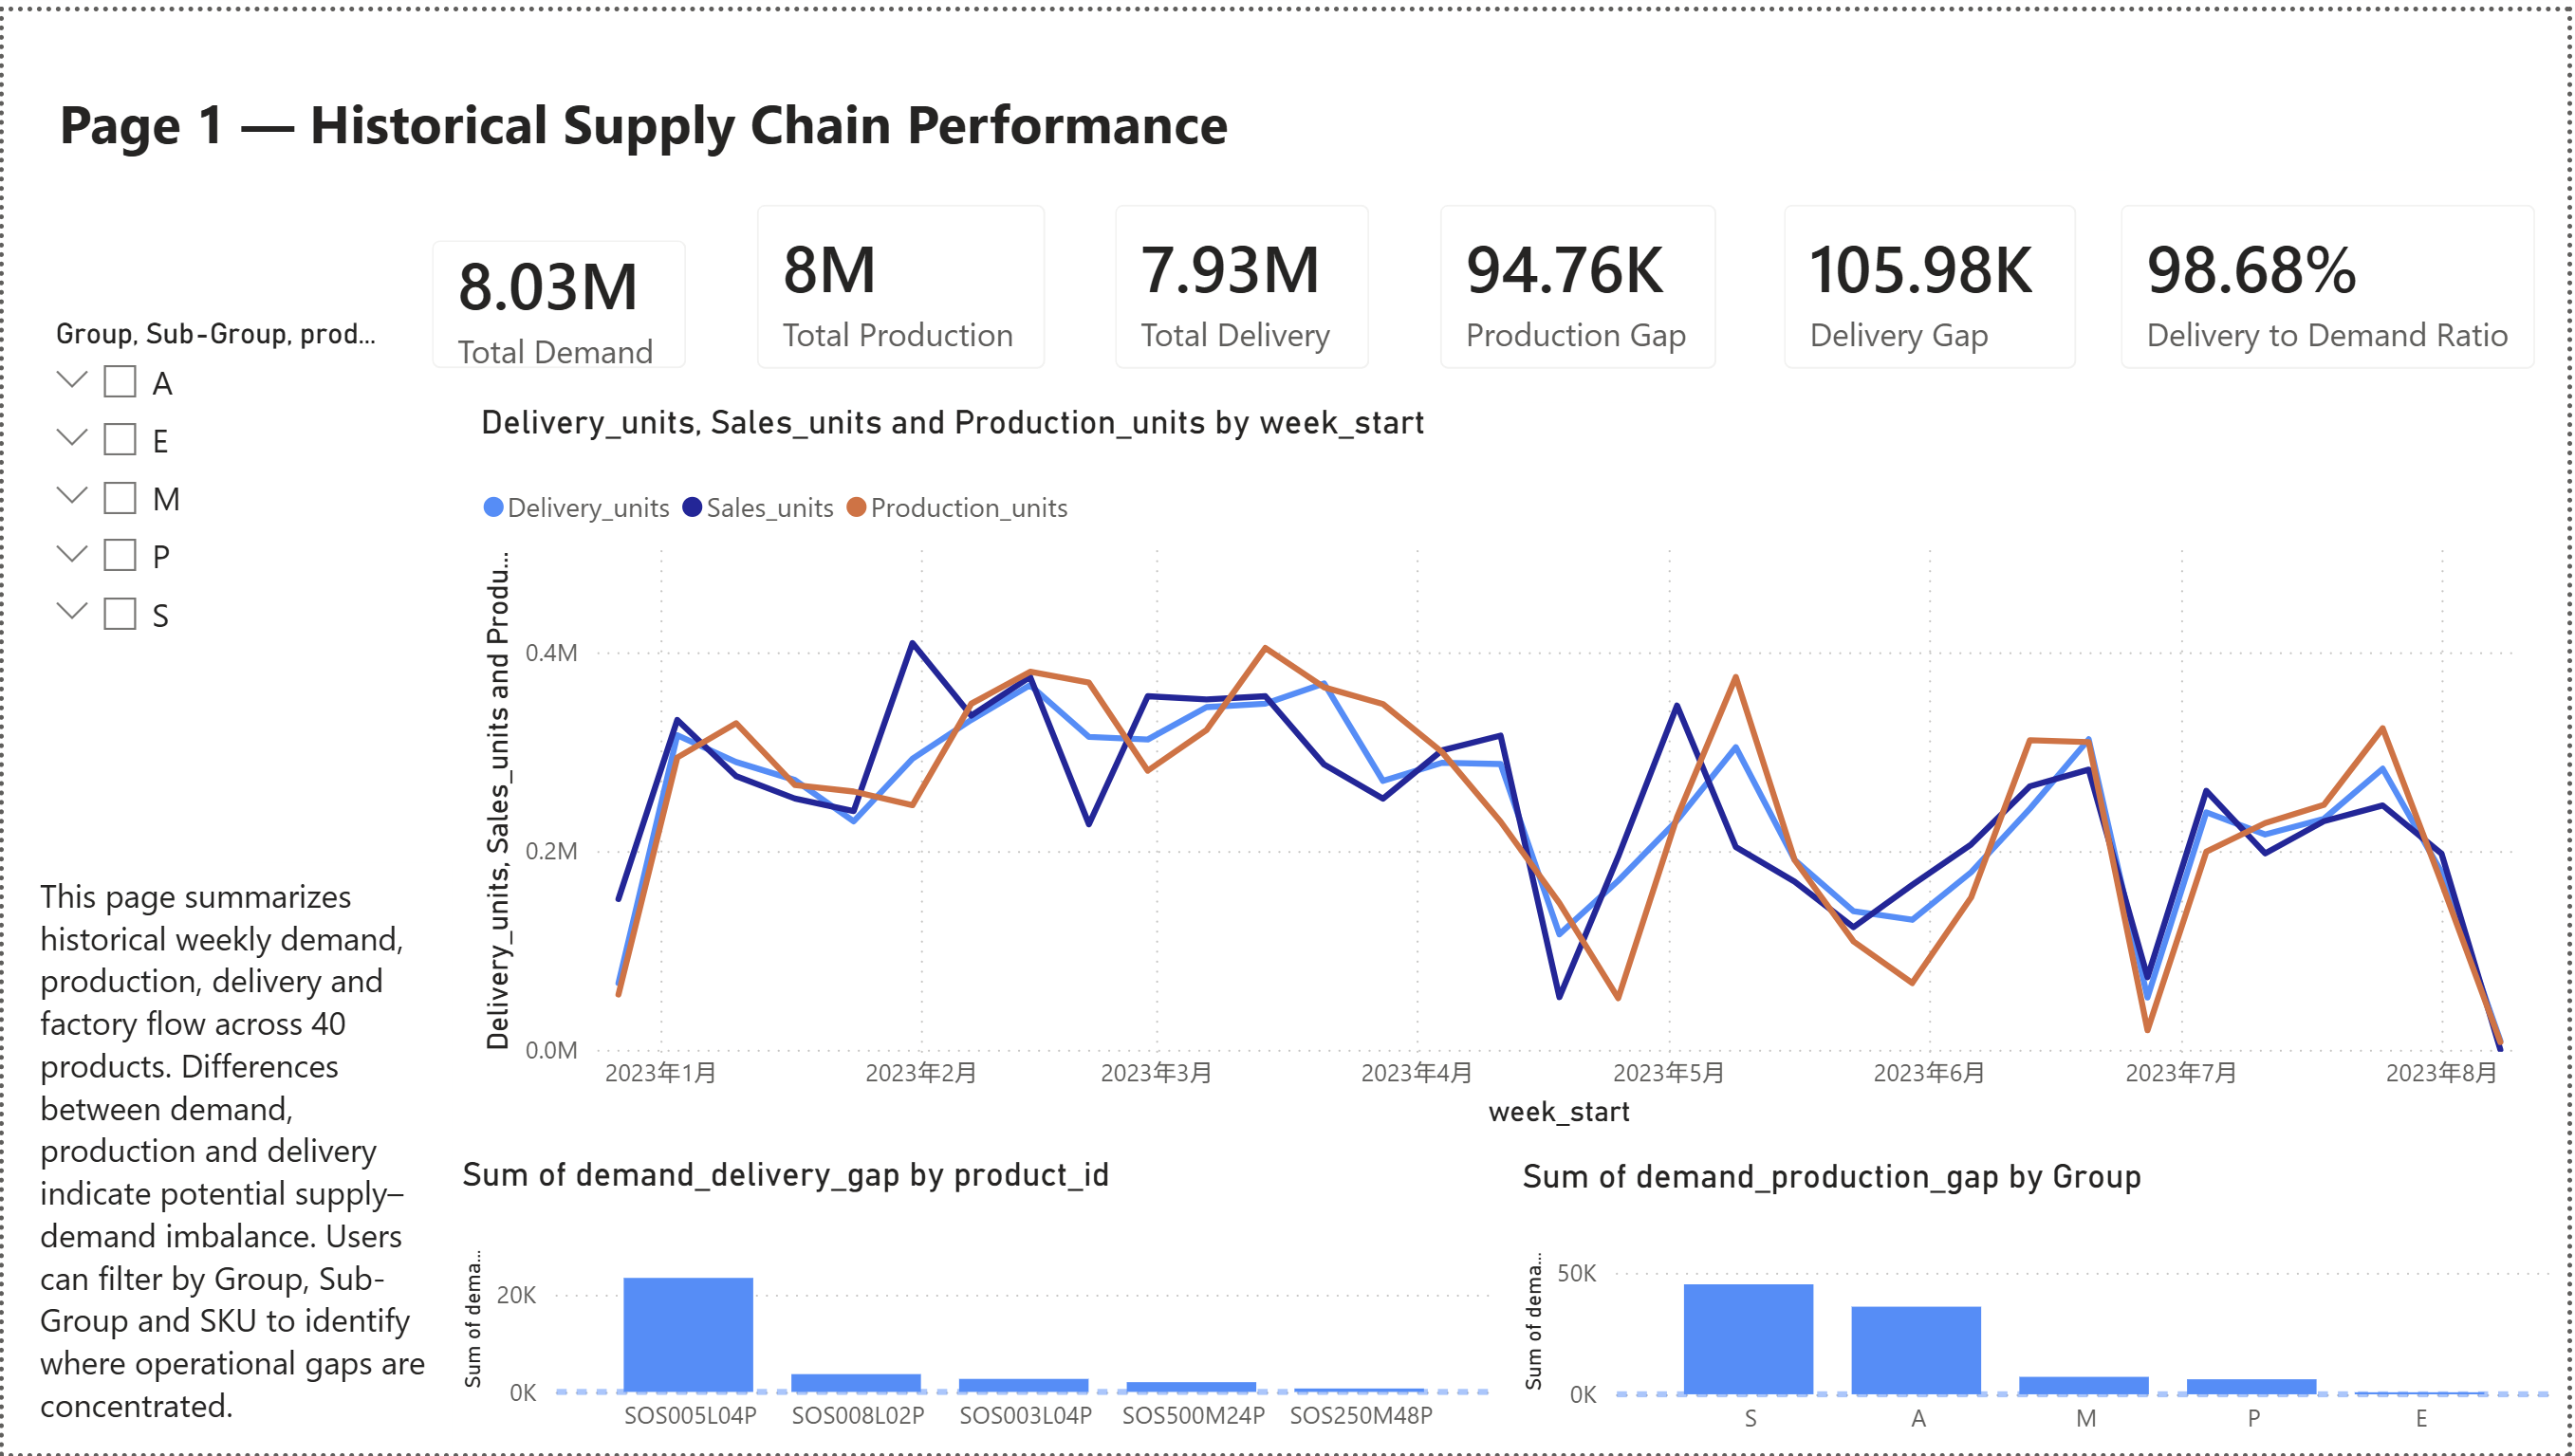

Layout of this report page (visuals, bound fields, positions):
{"tool":"powerbi","page":{"name":"Demand–Supply Planning Overview","canvas":[1280,720],"ordinal":0},"visuals":[{"type":"cardVisual","fields":{"Data":["_Measures.Total Demand"]},"box":[197,97.2,162,98.5],"z":0},{"type":"cardVisual","fields":{"Data":["_Measures.Total Delivery"]},"box":[537.8,79,162,116.6],"z":1000},{"type":"cardVisual","fields":{"Data":["_Measures.Production Gap"]},"box":[699.7,79,172.3,116.6],"z":2000},{"type":"cardVisual","fields":{"Data":["_Measures.Delivery Gap"]},"box":[872.1,79,180.1,116.6],"z":3000},{"type":"cardVisual","fields":{"Data":["_Measures.Delivery to Demand Ratio"]},"box":[1039.2,79,241,116.6],"z":4000},{"type":"cardVisual","fields":{"Data":["_Measures.Total Production"]},"box":[358.9,79,178.8,116.6],"z":5000},{"type":"lineChart","fields":{"Category":["weekly_product_flow.week_start"],"Y":["Sum(weekly_product_flow.delivery_units)","Sum(weekly_product_flow.sales_units)","Sum(weekly_product_flow.production_units)"]},"box":[233.2,195.7,1047,366.7],"z":6000},{"type":"columnChart","fields":{"Category":["weekly_product_flow.product_id"],"Y":["Sum(weekly_product_flow.demand_delivery_gap)"]},"box":[223.8,570.3,525.9,148.6],"z":7000},{"type":"columnChart","fields":{"Category":["weekly_product_flow.Group"],"Y":["Sum(weekly_product_flow.demand_production_gap)"]},"box":[753.7,572,525.9,148.6],"z":8000},{"type":"slicer","fields":{"Values":["weekly_product_flow.Group","weekly_product_flow.Sub-Group","weekly_product_flow.product_id"]},"box":[13,146.4,198.3,278.6],"z":9000},{"type":"textbox","box":[13,425,210.8,296.1],"z":9001},{"type":"textbox","box":[22.9,31.8,898,48.3],"z":9002}]}

Visuals, with their boxes in screenshot pixels (x1, y1, x2, y2), scaled from the page's 1280x720 canvas onto the 2575x1456 screenshot:
cardVisual - _Measures.Total Demand: <region>397, 196, 722, 396</region>
cardVisual - _Measures.Total Delivery: <region>1082, 159, 1408, 396</region>
cardVisual - _Measures.Production Gap: <region>1408, 159, 1754, 396</region>
cardVisual - _Measures.Delivery Gap: <region>1754, 159, 2117, 396</region>
cardVisual - _Measures.Delivery to Demand Ratio: <region>2090, 159, 2574, 396</region>
cardVisual - _Measures.Total Production: <region>722, 159, 1082, 396</region>
lineChart - weekly_product_flow.week_start x Sum(weekly_product_flow.delivery_units): <region>469, 396, 2574, 1137</region>
columnChart - weekly_product_flow.product_id x Sum(weekly_product_flow.demand_delivery_gap): <region>451, 1153, 1509, 1454</region>
columnChart - weekly_product_flow.Group x Sum(weekly_product_flow.demand_production_gap): <region>1516, 1156, 2574, 1455</region>
slicer - weekly_product_flow.Group x weekly_product_flow.Sub-Group: <region>27, 296, 425, 859</region>
textbox: <region>27, 859, 451, 1455</region>
textbox: <region>46, 65, 1853, 162</region>
